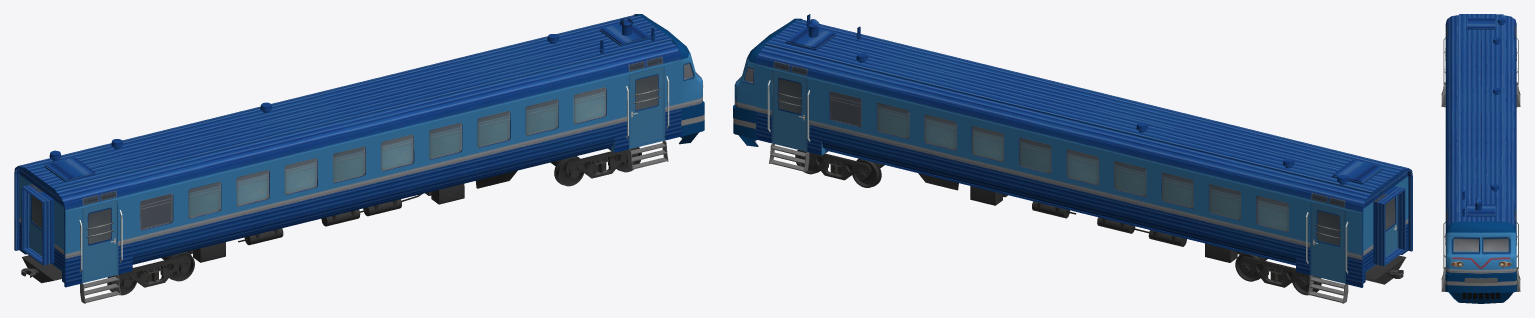
Rendered from Train01aCupe_1Passenger1Cabin.FBX.
3 renders of one model, left to right at view 1: azimuth 30°, elevation 25°; view 2: azimuth 150°, elevation 25°; view 3: azimuth 270°, elevation 25°, orthographic. The views are drawn at different scales.
Parts seen in each view (by area): view 1: Train01aCupe_1Passenger, Train01aCupe_1WheelsPas, Train01aCupe_1Cabin, Train01aCupe_Stairs, Train01aCupe_1Wheel03Pas; view 2: Train01aCupe_1Passenger, Train01aCupe_1WheelsPas, Train01aCupe_1Cabin, Train01aCupe_Stairs, Train01aCupe_1Wheel03Pas; view 3: Train01aCupe_1Passenger, Train01aCupe_1Cabin, Train01aCupe_Stairs.
Boxes of the visible parts, x1,y1,x2,y2 form: Train01aCupe_1Passenger: (14, 15, 681, 287); Train01aCupe_1WheelsPas: (21, 148, 637, 287); Train01aCupe_1Cabin: (634, 14, 704, 144); Train01aCupe_Stairs: (80, 140, 668, 303); Train01aCupe_1Wheel03Pas: (550, 156, 584, 186); Train01aCupe_1Passenger: (755, 14, 1412, 287); Train01aCupe_1WheelsPas: (799, 150, 1406, 287); Train01aCupe_1Cabin: (733, 18, 802, 146); Train01aCupe_Stairs: (769, 143, 1348, 303); Train01aCupe_1Wheel03Pas: (851, 158, 884, 187); Train01aCupe_1Passenger: (1443, 14, 1518, 271); Train01aCupe_1Cabin: (1445, 221, 1516, 303); Train01aCupe_Stairs: (1441, 82, 1520, 291).
Bounding box in the file's own units: 1373 × 277 × 206.
